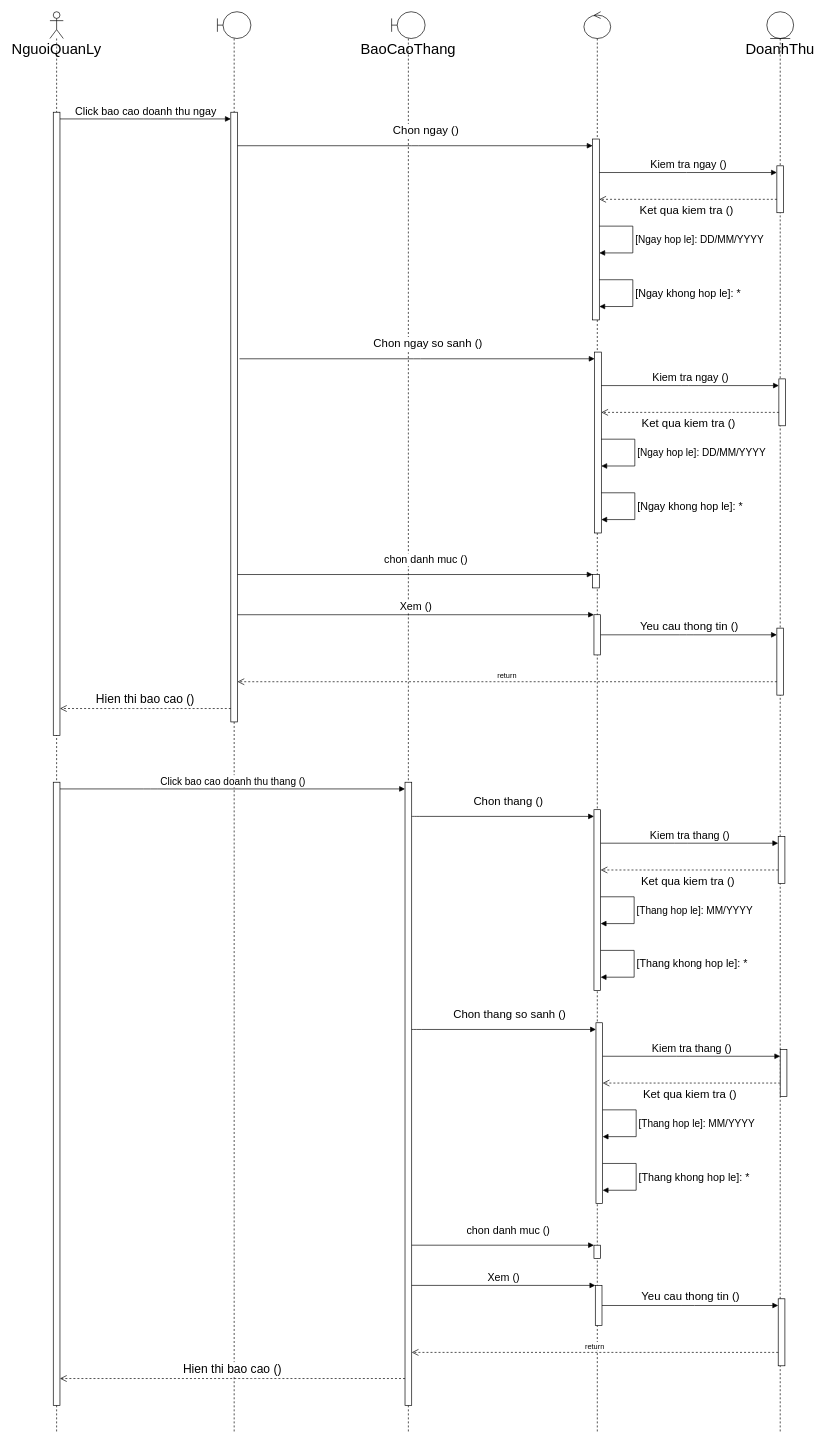
This 826x1444 diagram has some shape labels left out. The box of each missing label's shape, as (x1, y1, x2, y2) in pixels:
BaoCao: (583, 11, 611, 1432)
BaoCaoNgay: (217, 11, 251, 1432)
